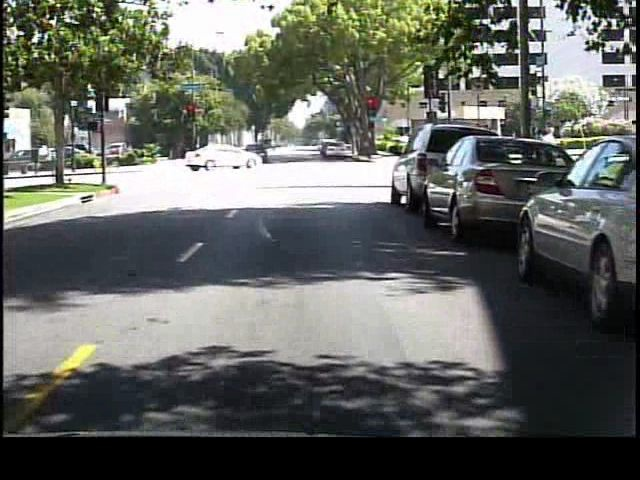person: (258, 141, 274, 170)
